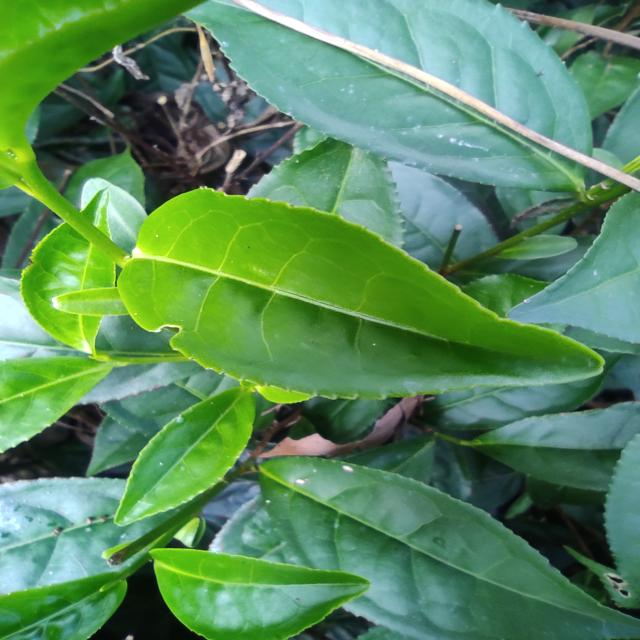Category B(2-4 days): (114, 180, 607, 408)
